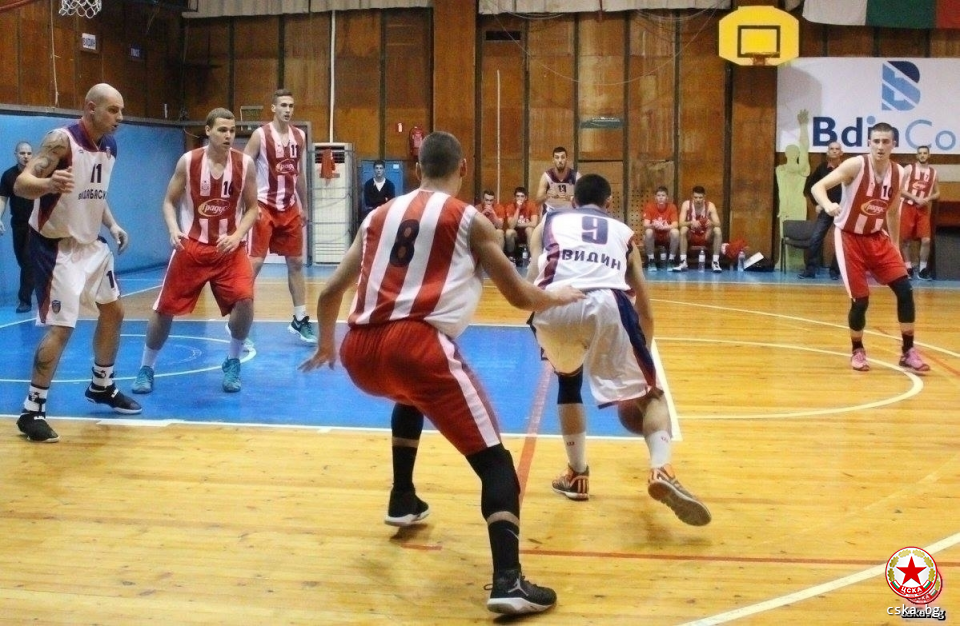basket: (745, 51, 779, 73)
player: (333, 135, 550, 617), (536, 177, 671, 501), (19, 80, 135, 445), (129, 110, 267, 397), (809, 116, 924, 371), (225, 93, 313, 347)
